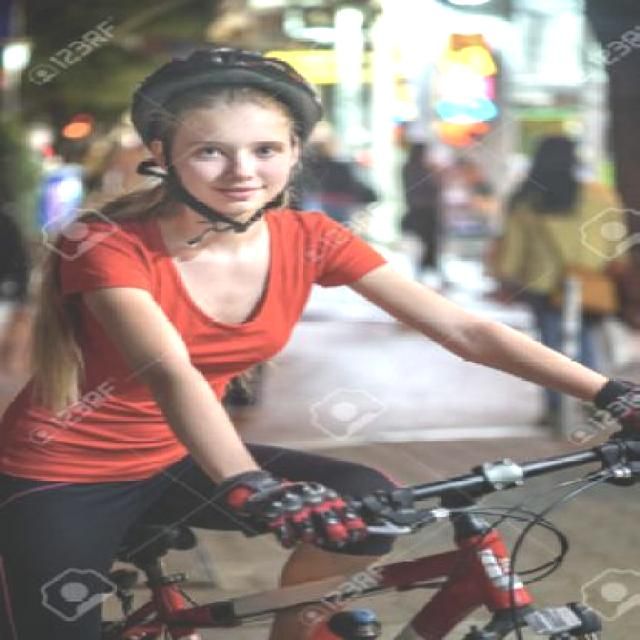With Helmet: (124, 48, 330, 228)
